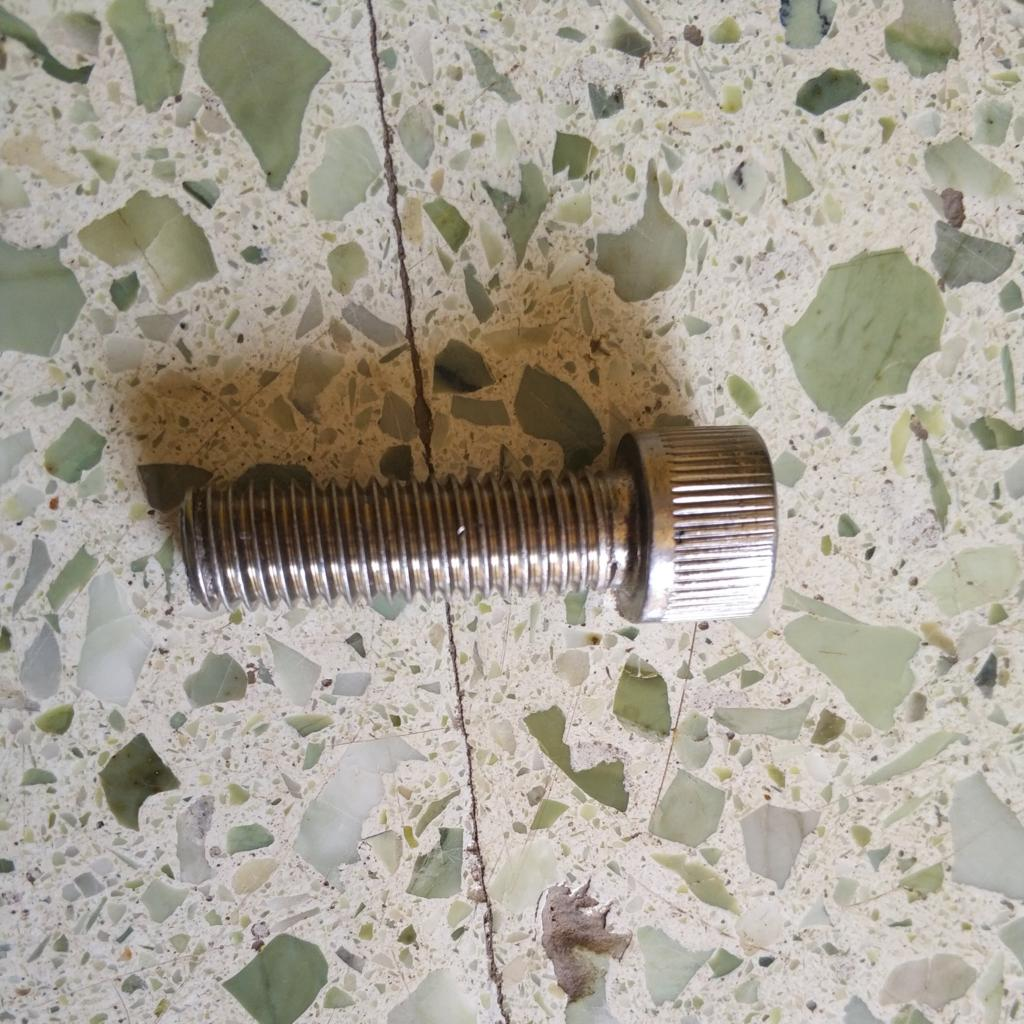screwtype1silver: (157, 421, 784, 633)
